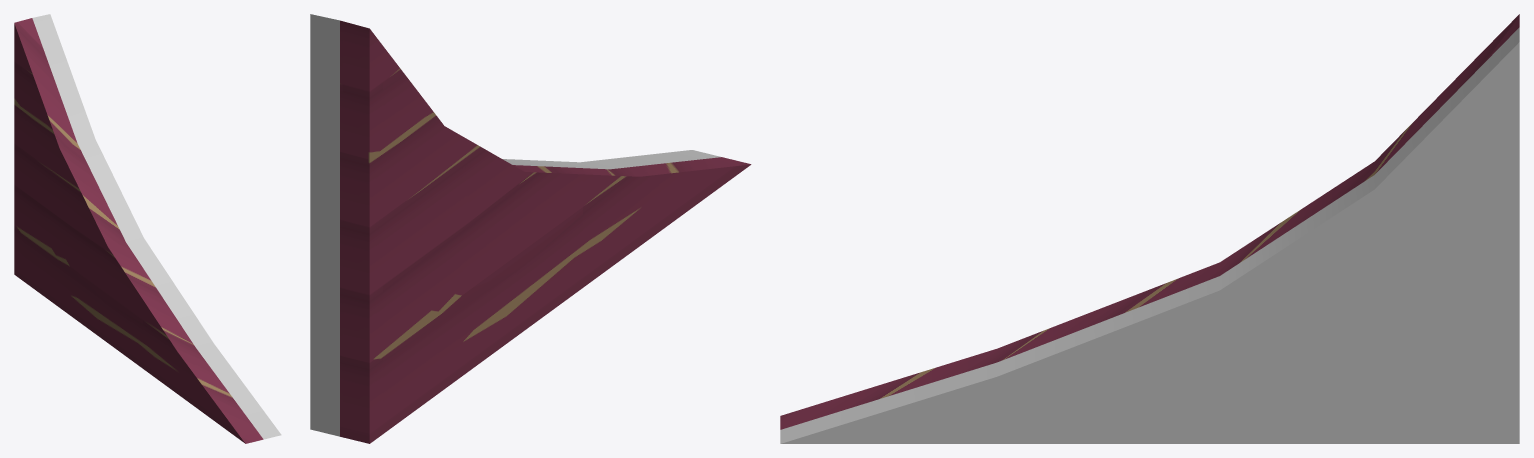
File: SM_Bld_Roof_M_Concave_Wall_01.fbx
3 views of the same model, side by side, from view 1: azimuth 30°, elevation 25°; view 2: azimuth 150°, elevation 25°; view 3: azimuth 270°, elevation 25° (orthographic). The views are drawn at different scales.
Parts seen in each view (by area): view 1: SM_Bld_Roof_M_Concave_Wall_01; view 2: SM_Bld_Roof_M_Concave_Wall_01; view 3: SM_Bld_Roof_M_Concave_Wall_01.
Part boxes in pixels (<box>): SM_Bld_Roof_M_Concave_Wall_01: <box>14,14,281,443</box>; SM_Bld_Roof_M_Concave_Wall_01: <box>310,14,751,443</box>; SM_Bld_Roof_M_Concave_Wall_01: <box>780,14,1519,443</box>.
Size of the model in its own units: 22.5 by 150 by 250.
